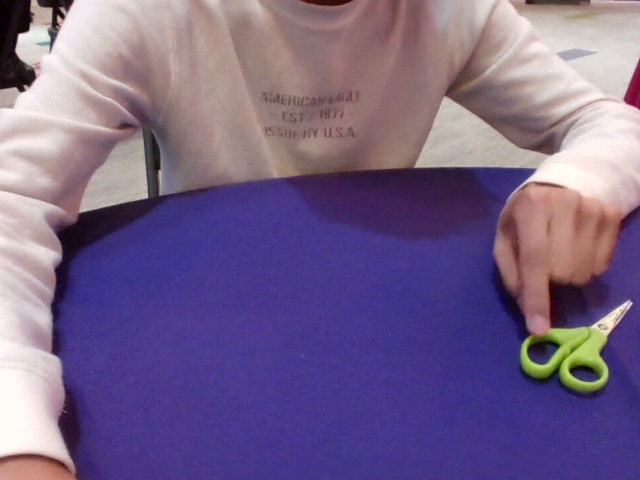tijeras: (518, 299, 633, 396)
